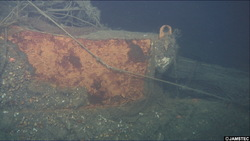fishing net: (1, 1, 110, 30)
rope: (26, 1, 249, 109)
